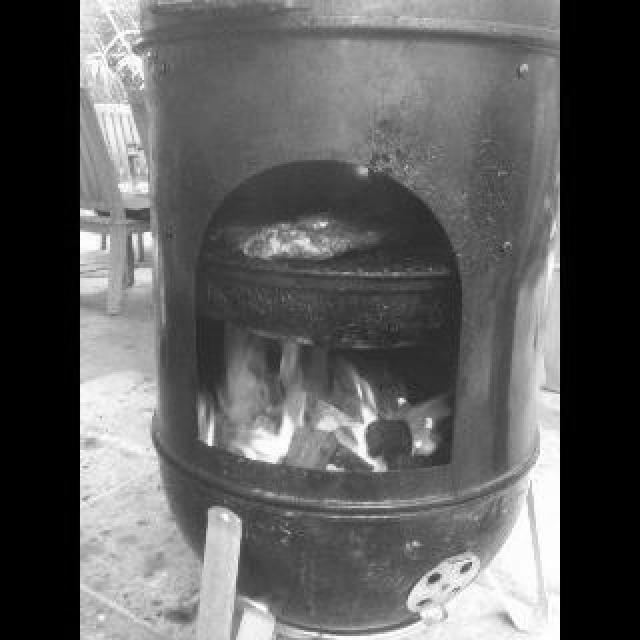Fire: (190, 336, 454, 468)
